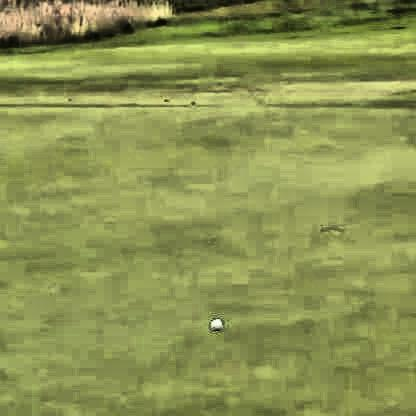golfball: (209, 315, 221, 331)
